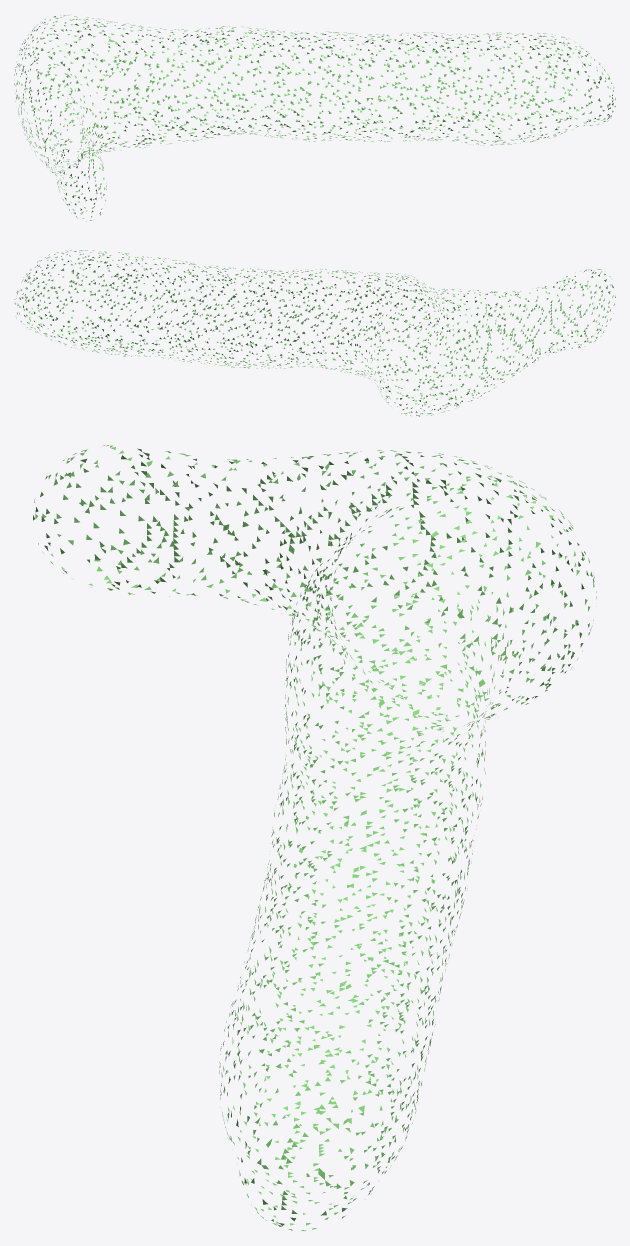
The model's file is morph_016.glb.
3 renders of one model, top to bottom at view 1: azimuth 30°, elevation 25°; view 2: azimuth 150°, elevation 25°; view 3: azimuth 270°, elevation 25°, orthographic. The views are drawn at different scales.
Size of the model in its own units: 139 by 42.21 by 63.74.
